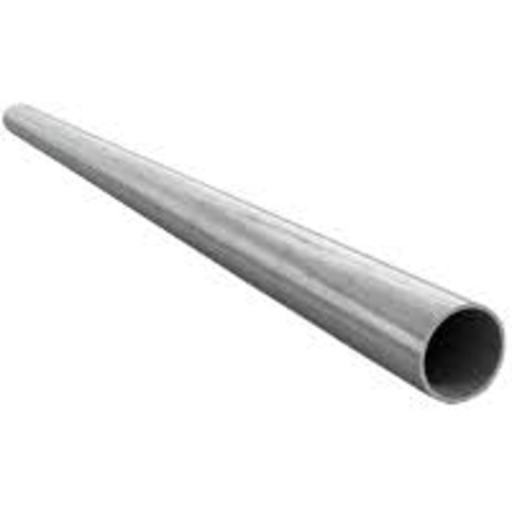Circle: (431, 307, 504, 396)
